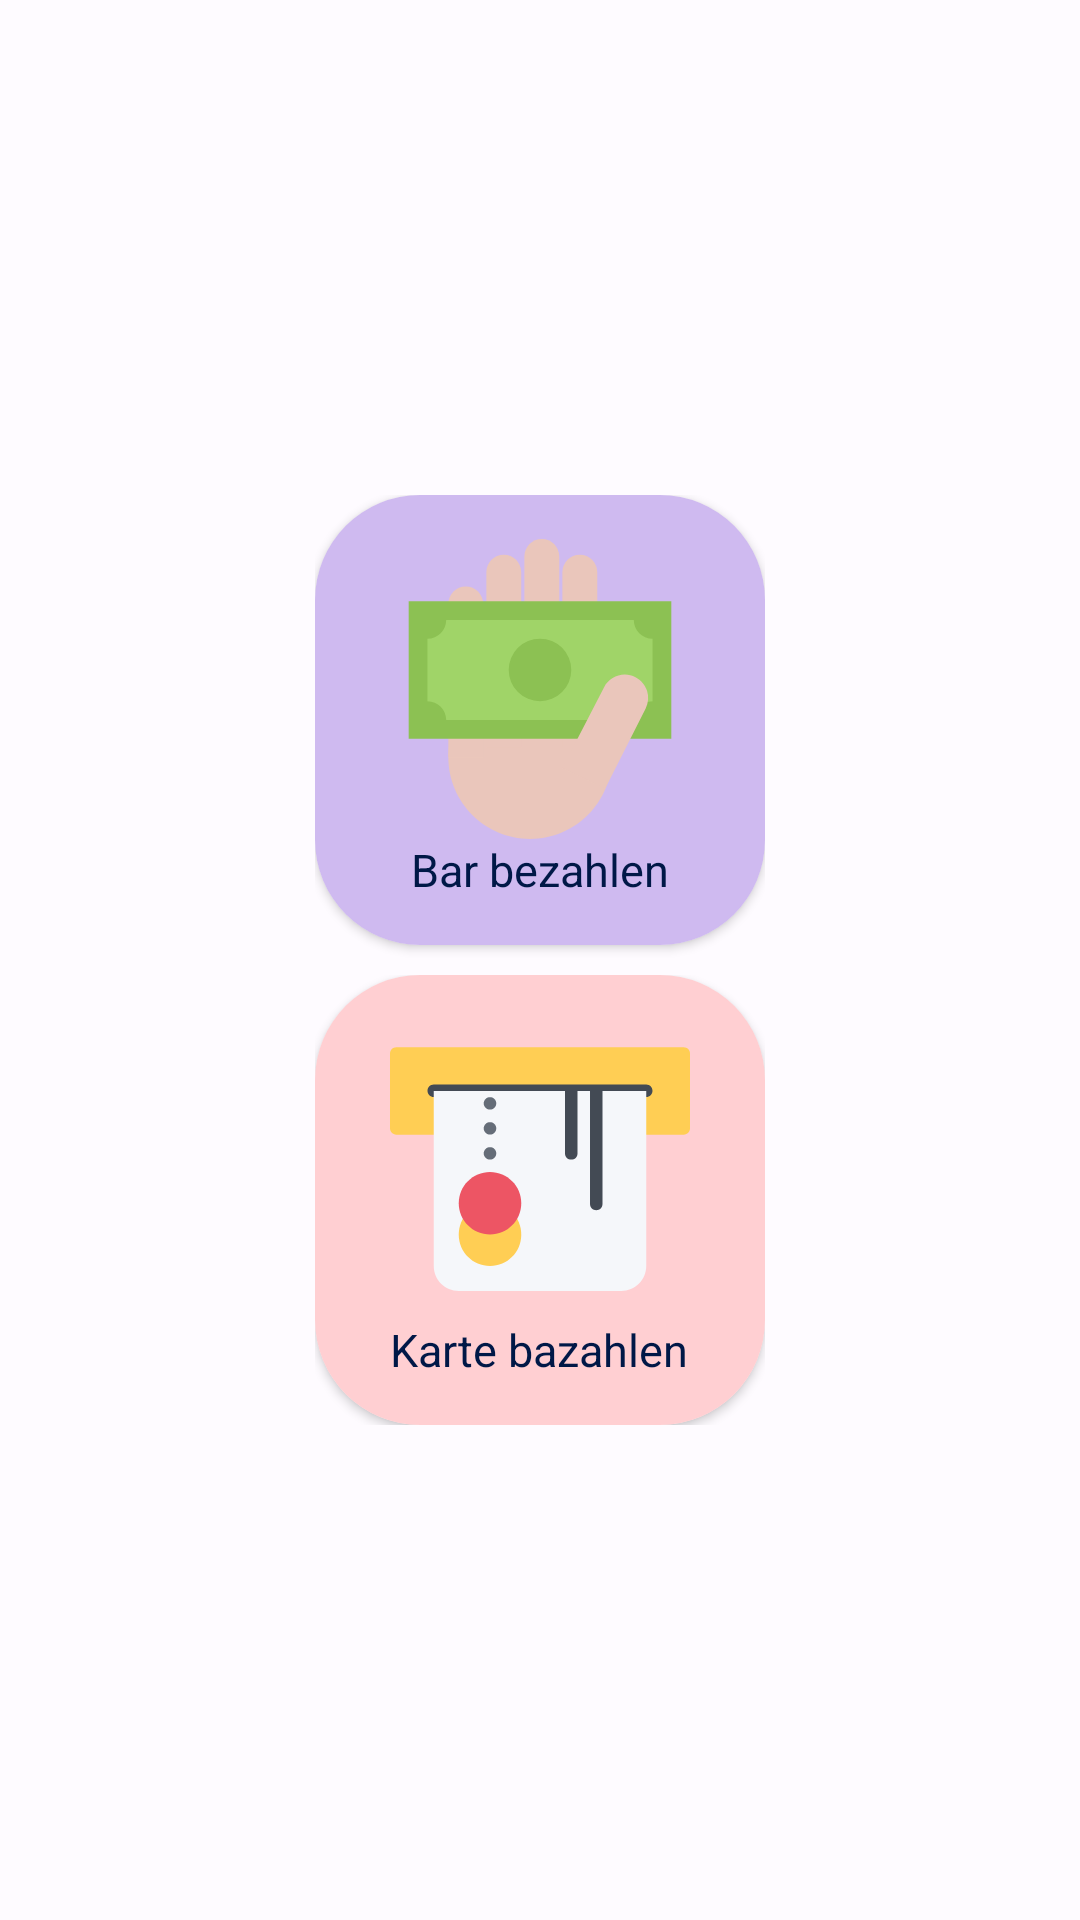

Where icons sit on this 1080 x 1920 app screen, as (x1, y1, x2, y2):
atm: (390, 1047, 690, 1291)
